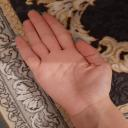OpenPalm: (14, 7, 112, 114)
